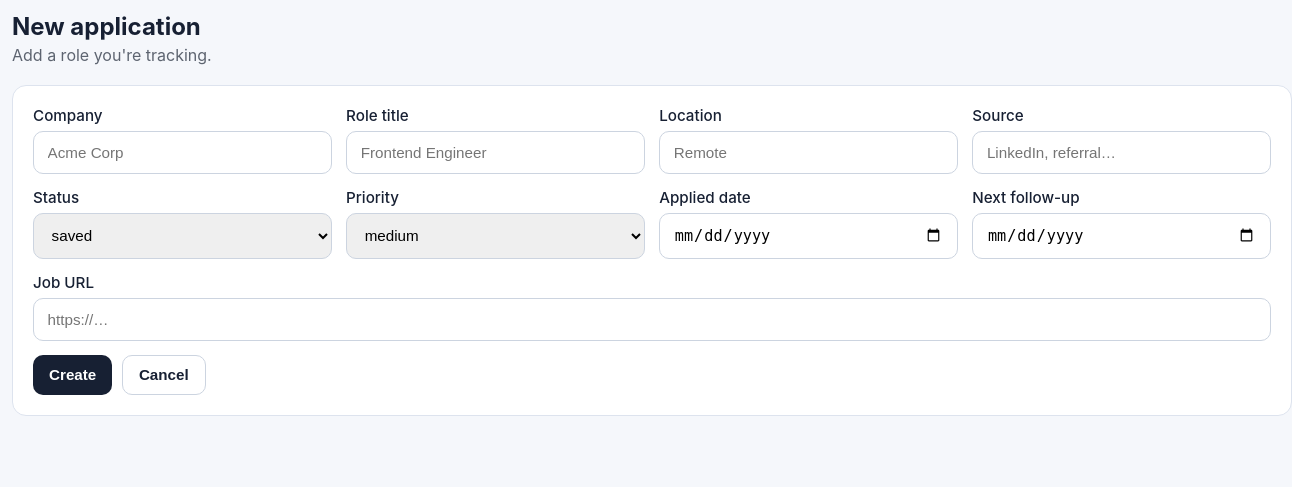
Scenario: NewApplicationPage › validates the job URL
In the field labelled "Role title": (495, 152) [346,131,645,174], type "Engineer"
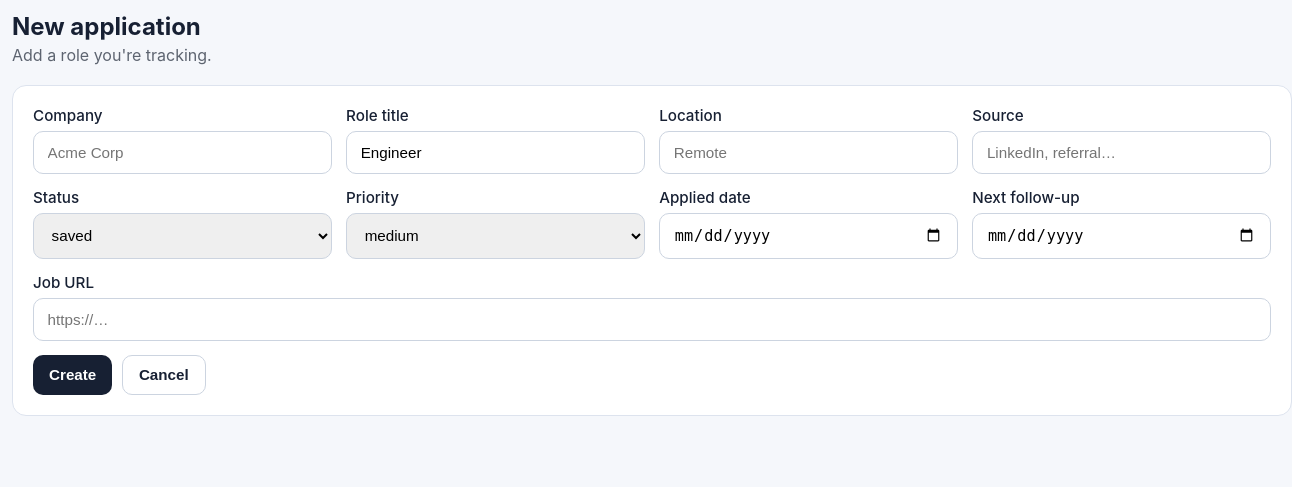
In the field labelled "Job URL": (652, 319) [33,298,1271,341], type "not-a-url"
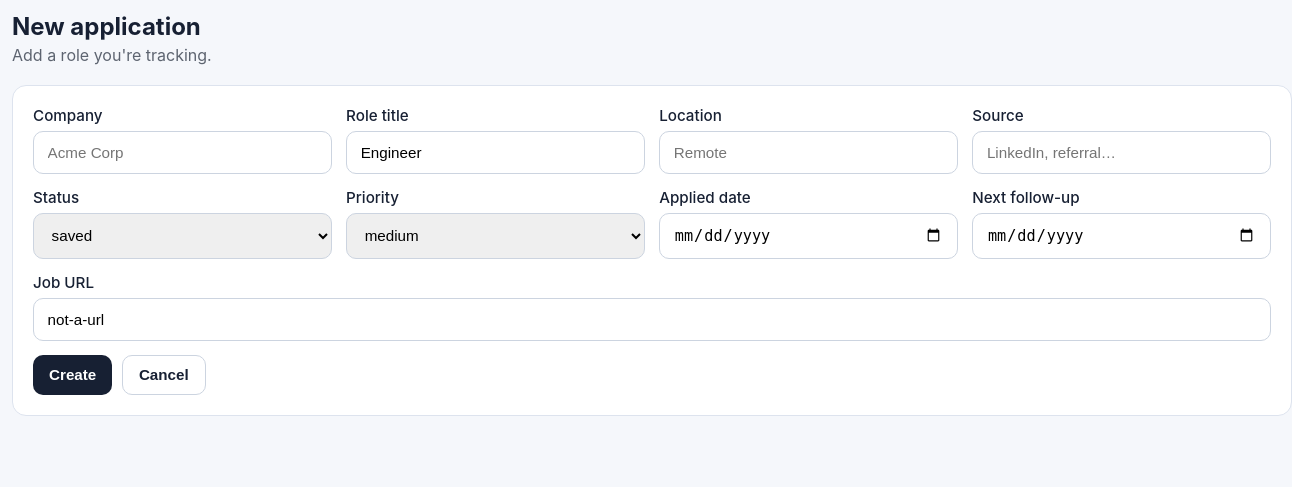
Click the button "Create": click(73, 375) [33,355,112,395]
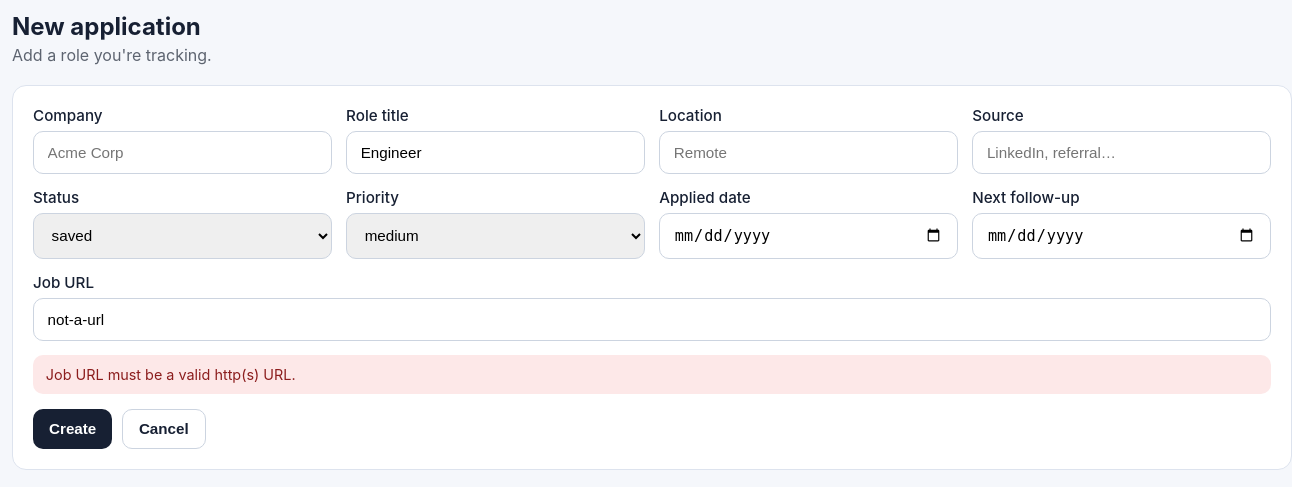
Expected: the text "Job URL must be a valid http(s) URL." is shown, [33,355,1271,394]
